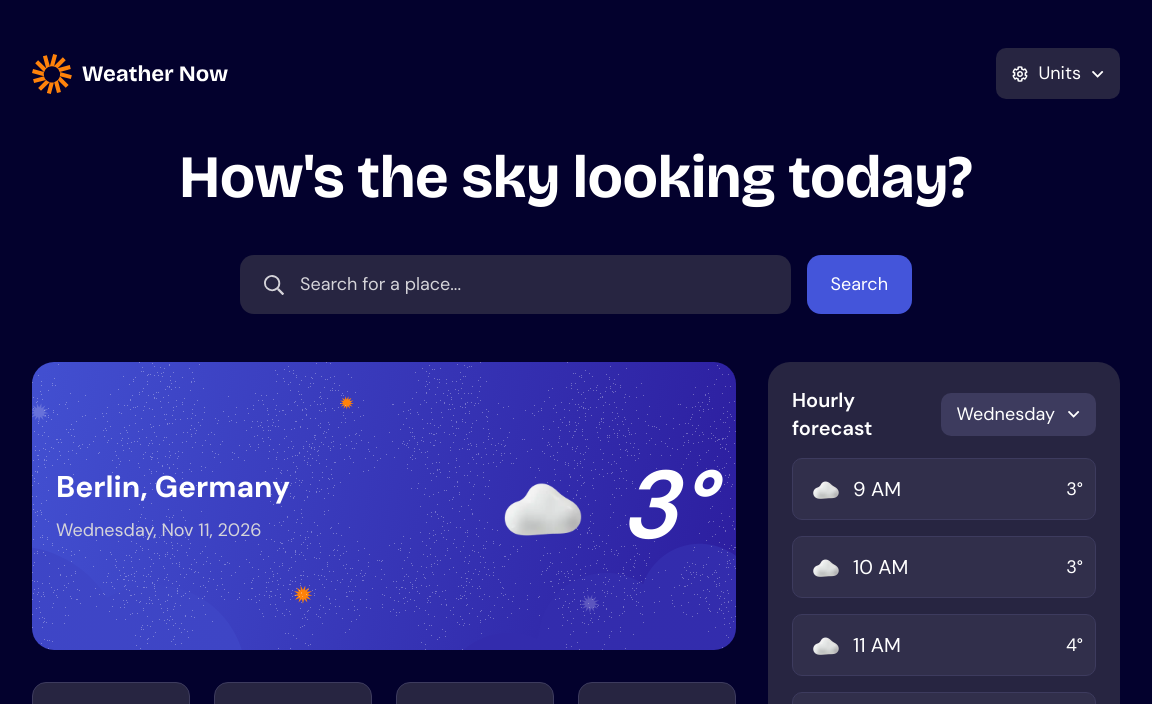
it: 검색 진행 중 › 응답 전에는 검색창 아래 Search in progress를 보이고 날씨 영역은 그대로 둔다
Check: the text "Berlin, Germany" is shown, box x1=56 y1=468 x2=290 y2=504
Type "Berlin" into the dropdown at [515, 284], box x1=240 y1=255 x2=791 y2=314
Then press Enter
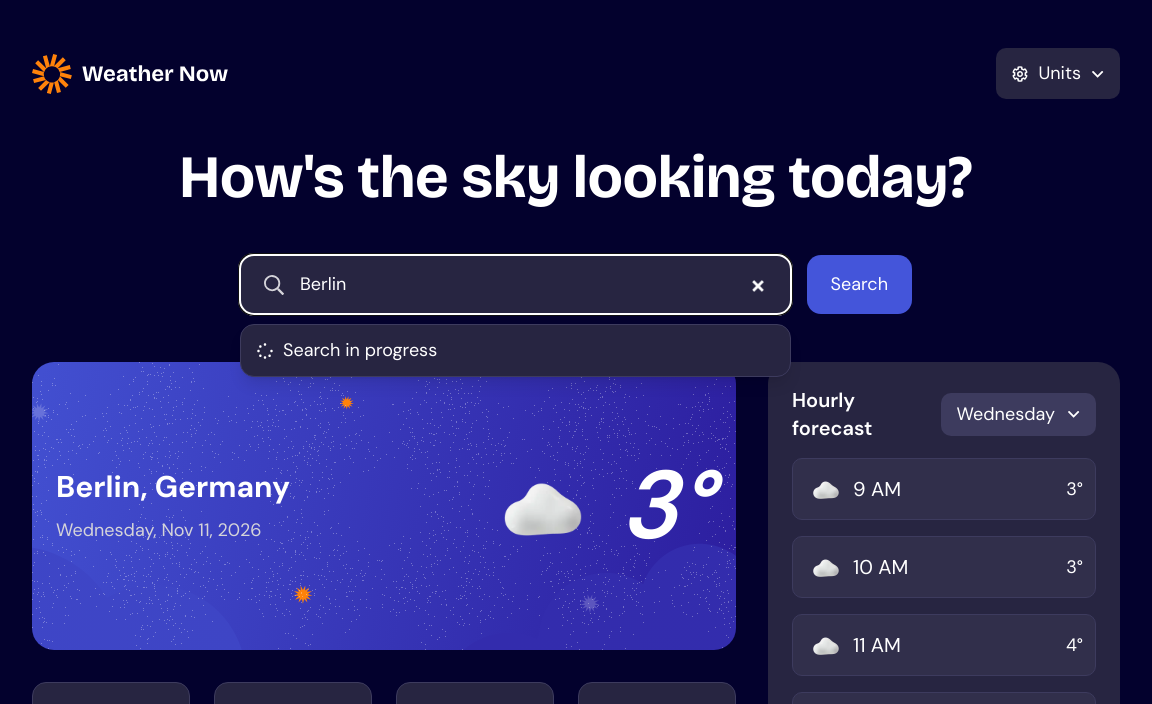
Check: the text "Berlin, Germany" is shown, box x1=56 y1=468 x2=290 y2=504
Check: the text "Search in progress" is shown, box x1=240 y1=324 x2=791 y2=377
